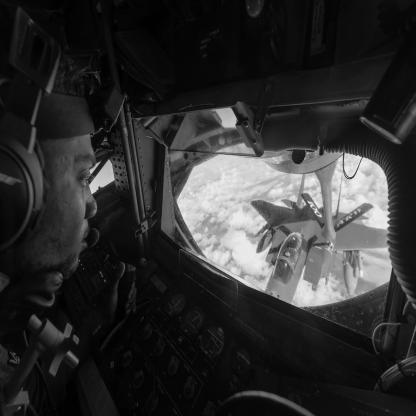F15: (250, 164, 391, 306)
